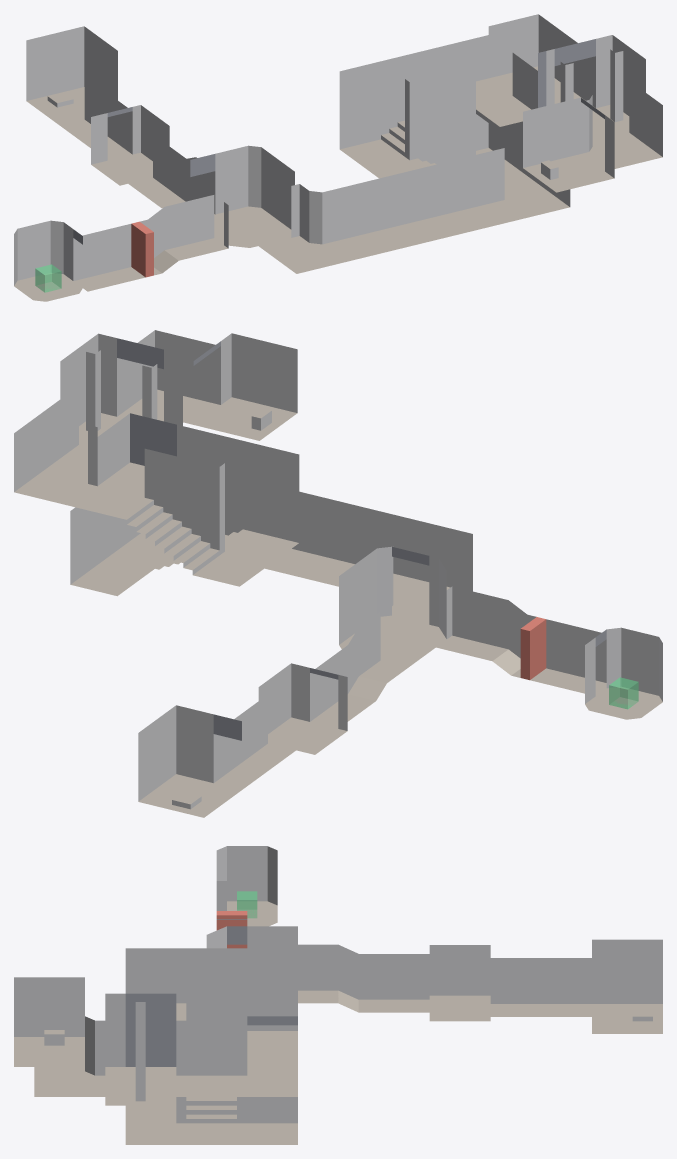
Rendered from habitat_09.glb.
3 renders of one model, top to bottom at view 1: azimuth 30°, elevation 25°; view 2: azimuth 150°, elevation 25°; view 3: azimuth 270°, elevation 25°, orthographic. The views are drawn at different scales.
Parts seen in each view (by area): view 1: room:5, corridor:4, corridor:0, corridor:1, room:1, room:4, room:0, room:2, room:3, corridor:2, corridor:3, entities; view 2: room:5, corridor:0, corridor:4, corridor:1, room:4, room:1, room:0, room:2, corridor:2, room:3, corridor:3, entities; view 3: corridor:0, room:5, corridor:2, room:4, room:0, corridor:3, corridor:4, room:3, room:2, room:1, entities.
Part boxes in pixels (left/top/right/bottom): room:5: left=339, top=35, right=541, bottom=194; corridor:4: left=258, top=148, right=570, bottom=273; corridor:0: left=488, top=14, right=662, bottom=170; corridor:1: left=73, top=195, right=228, bottom=291; room:1: left=190, top=145, right=294, bottom=247; room:4: left=26, top=26, right=117, bottom=125; room:0: left=523, top=97, right=614, bottom=192; room:2: left=14, top=220, right=82, bottom=301; room:3: left=91, top=105, right=169, bottom=185; corridor:2: left=128, top=134, right=215, bottom=214; corridor:3: left=60, top=76, right=132, bottom=160; entities: left=35, top=221, right=153, bottom=292; room:5: left=70, top=413, right=299, bottom=596; corridor:0: left=14, top=330, right=220, bottom=505; corridor:4: left=130, top=491, right=472, bottom=624; corridor:1: left=436, top=586, right=606, bottom=695; room:4: left=138, top=705, right=241, bottom=817; room:1: left=339, top=546, right=446, bottom=667; room:0: left=193, top=333, right=297, bottom=440; room:2: left=585, top=627, right=662, bottom=719; corridor:2: left=310, top=611, right=408, bottom=728; room:3: left=258, top=663, right=347, bottom=754; corridor:3: left=213, top=694, right=295, bottom=789; entities: left=520, top=617, right=638, bottom=709; corridor:0: left=34, top=993, right=297, bottom=1105; room:5: left=186, top=948, right=297, bottom=1144; corridor:2: left=298, top=944, right=429, bottom=1012; room:4: left=592, top=939, right=662, bottom=1033; room:0: left=14, top=977, right=84, bottom=1066; corridor:3: left=490, top=958, right=591, bottom=1016; corridor:4: left=125, top=948, right=186, bottom=1144; room:3: left=429, top=945, right=490, bottom=1021; room:2: left=216, top=846, right=277, bottom=926; room:1: left=206, top=926, right=297, bottom=948; entities: left=216, top=891, right=257, bottom=948.
Size of the model in its own units: 67 by 17 by 64.
